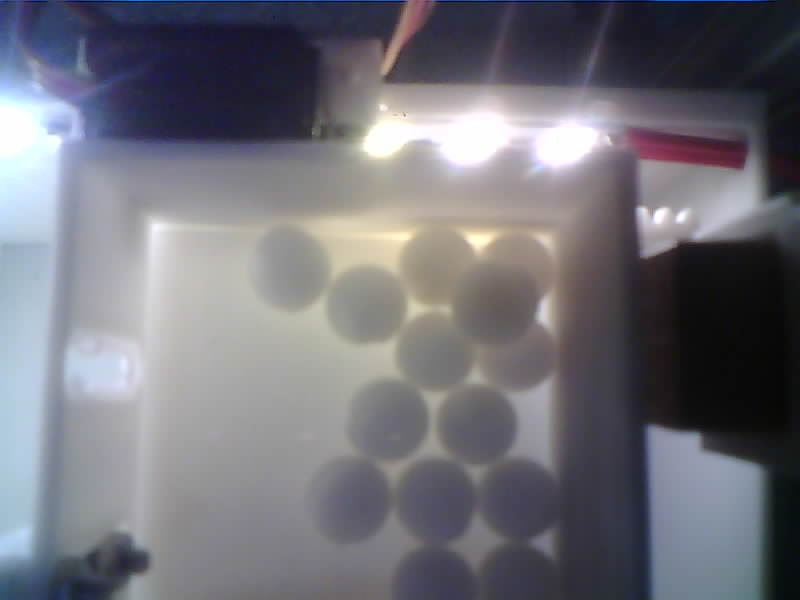Paper: (478, 459, 559, 544), (302, 459, 388, 537), (397, 459, 474, 537), (248, 228, 328, 303), (348, 379, 426, 454), (454, 267, 534, 339), (327, 269, 403, 343), (441, 387, 518, 459), (399, 318, 474, 386), (481, 319, 554, 388), (404, 231, 474, 302), (391, 547, 480, 600), (478, 236, 550, 299), (481, 549, 567, 600)
